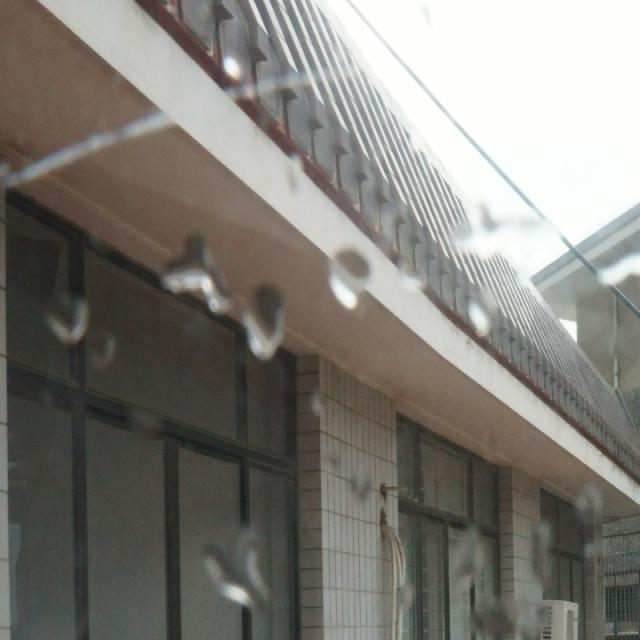raindrop: (448, 523, 545, 640), (444, 194, 568, 266), (198, 524, 272, 615), (161, 228, 232, 322), (238, 283, 288, 364), (33, 294, 91, 349), (330, 247, 372, 315), (597, 316, 640, 381), (594, 247, 640, 298), (524, 519, 556, 587), (396, 7, 441, 47), (463, 290, 497, 340), (82, 328, 115, 379), (122, 399, 168, 429), (574, 479, 606, 522), (340, 466, 378, 502), (222, 54, 254, 85), (288, 154, 310, 198), (585, 534, 611, 564), (309, 384, 327, 420)
